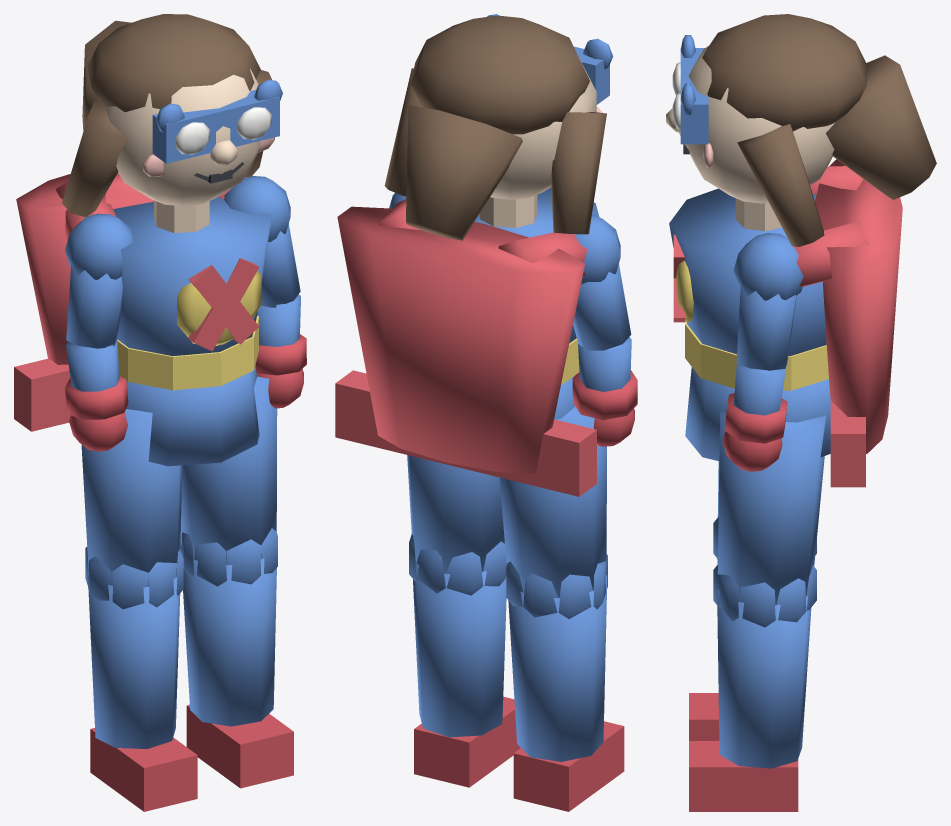
Rendered from meeple_20_superheldin_stand.glb.
The picture shows the model from 3 angles, left to right: view 1: azimuth 30°, elevation 25°; view 2: azimuth 150°, elevation 25°; view 3: azimuth 270°, elevation 25°; orthographic projection. The views are drawn at different scales.
Parts seen in each view (by area): view 1: meeple_20_superheldin_stand; view 2: meeple_20_superheldin_stand; view 3: meeple_20_superheldin_stand.
Boxes of the visible parts, box(x1,y1,x2,y2) form: meeple_20_superheldin_stand: box(14, 14, 306, 811); meeple_20_superheldin_stand: box(335, 14, 637, 811); meeple_20_superheldin_stand: box(666, 14, 936, 811).
Bounding box in the file's own units: 0.52 × 1.55 × 0.507.
